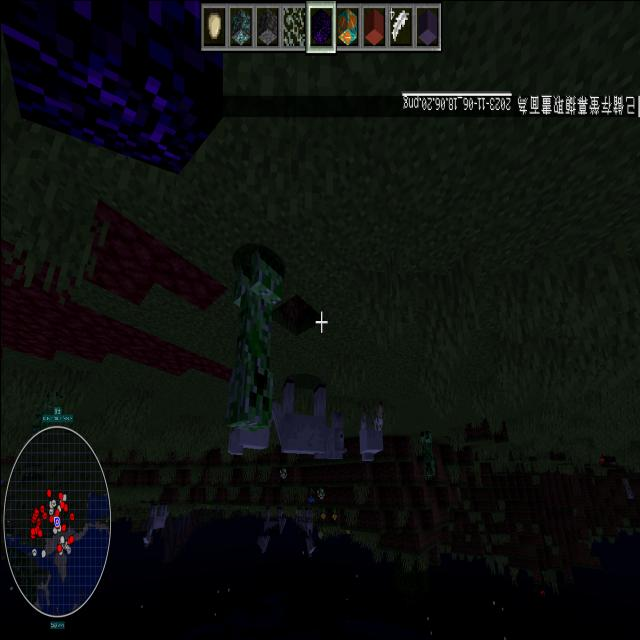Creeper: (223, 238, 278, 450), (418, 427, 436, 477)
Skeleton: (622, 473, 634, 499)
Spider: (530, 580, 548, 597), (597, 449, 617, 464)
